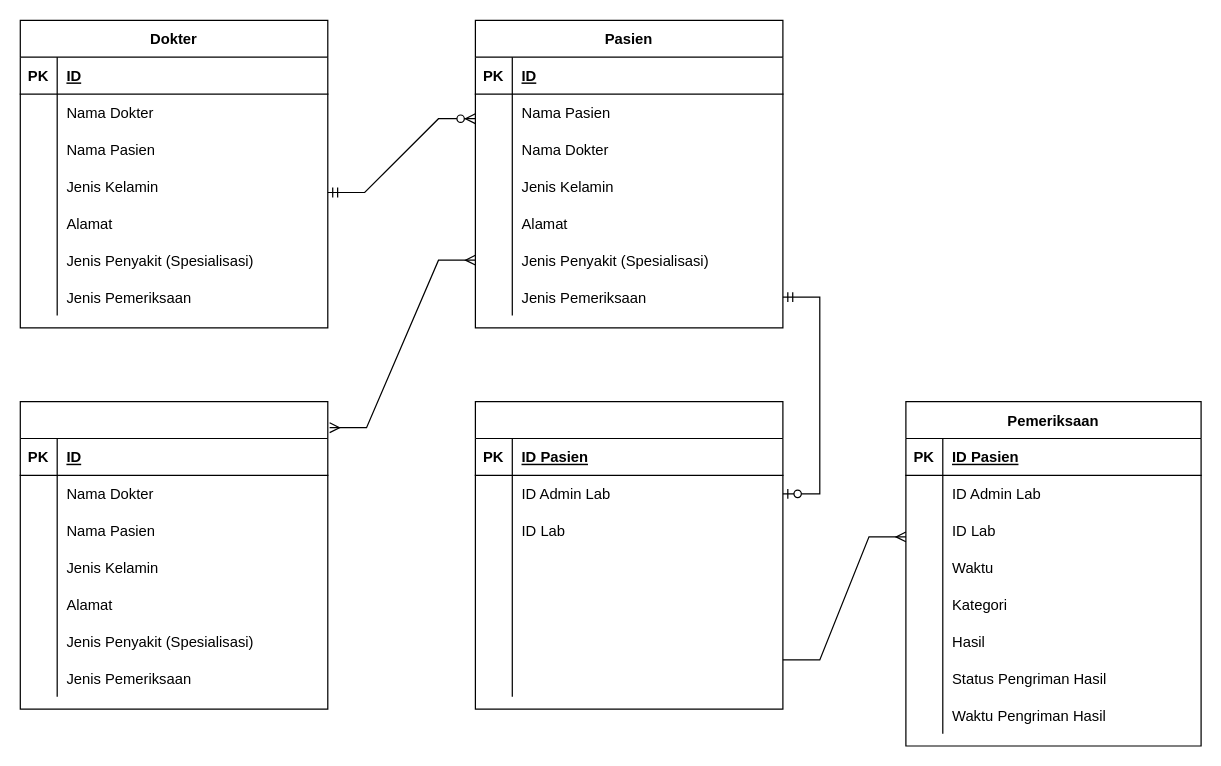
This 1221x766 diagram has some shape labels left out. The box of each missing label's shape, as (x1, y1, x2, y2) in pixels:
Admin Lab: (19, 400, 328, 709)
Laboratorium: (474, 400, 783, 709)
